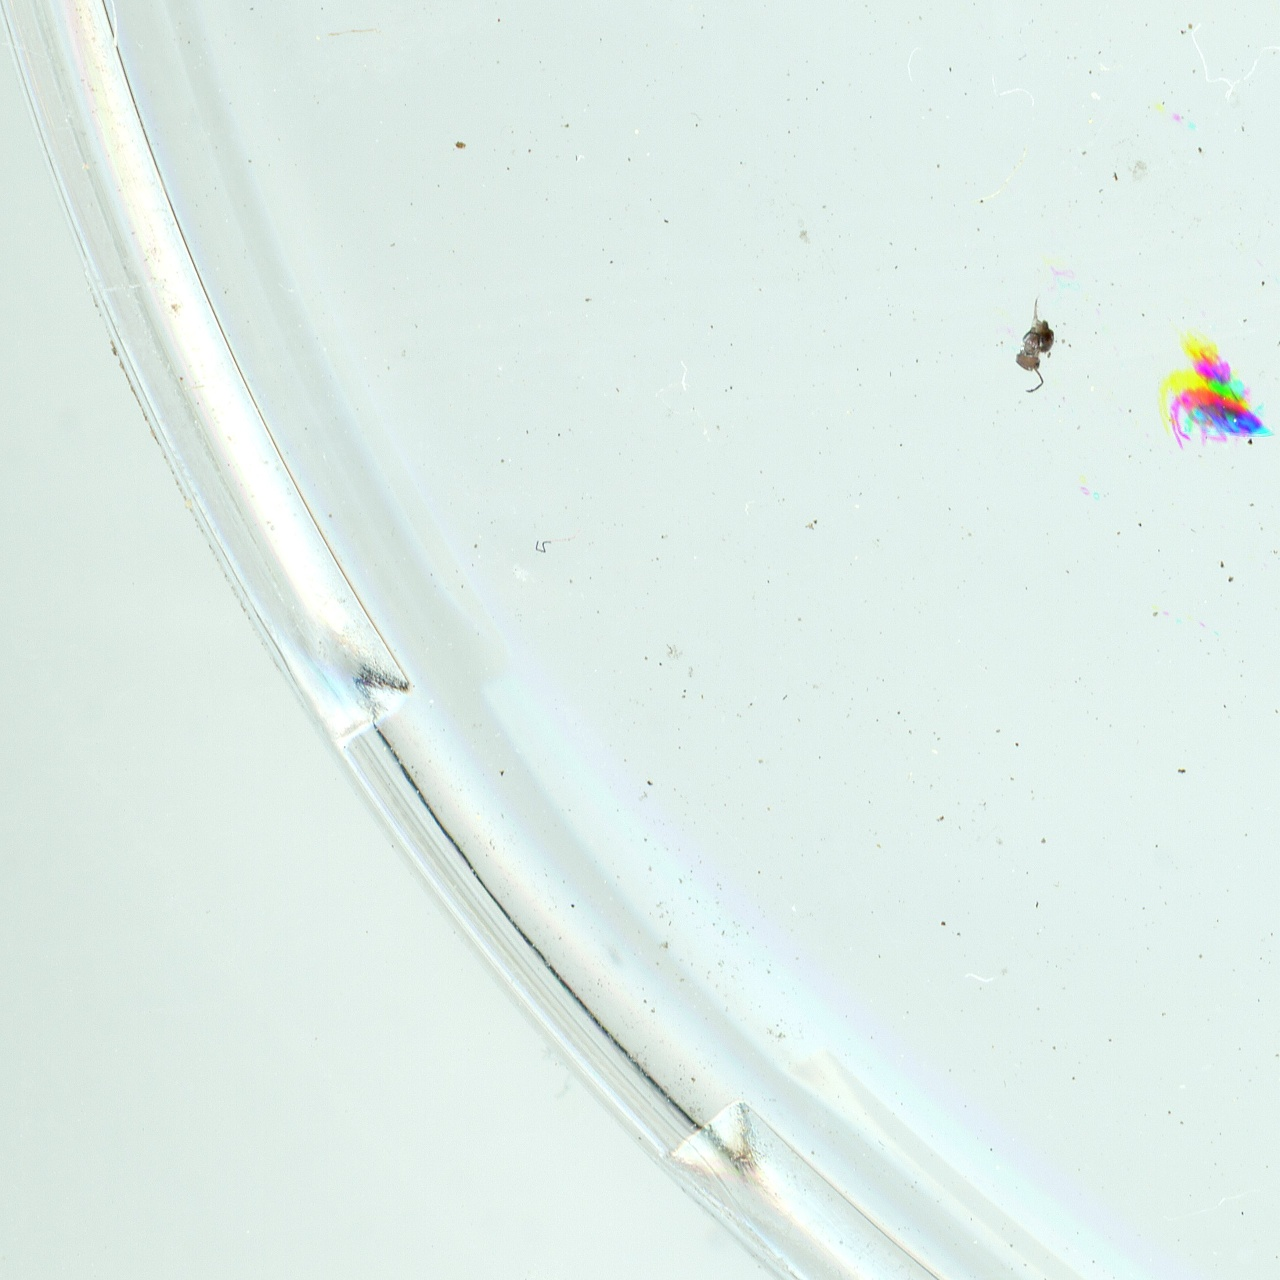arthropod: (1164, 381, 1270, 451), (1013, 295, 1057, 393), (1185, 336, 1239, 384)
